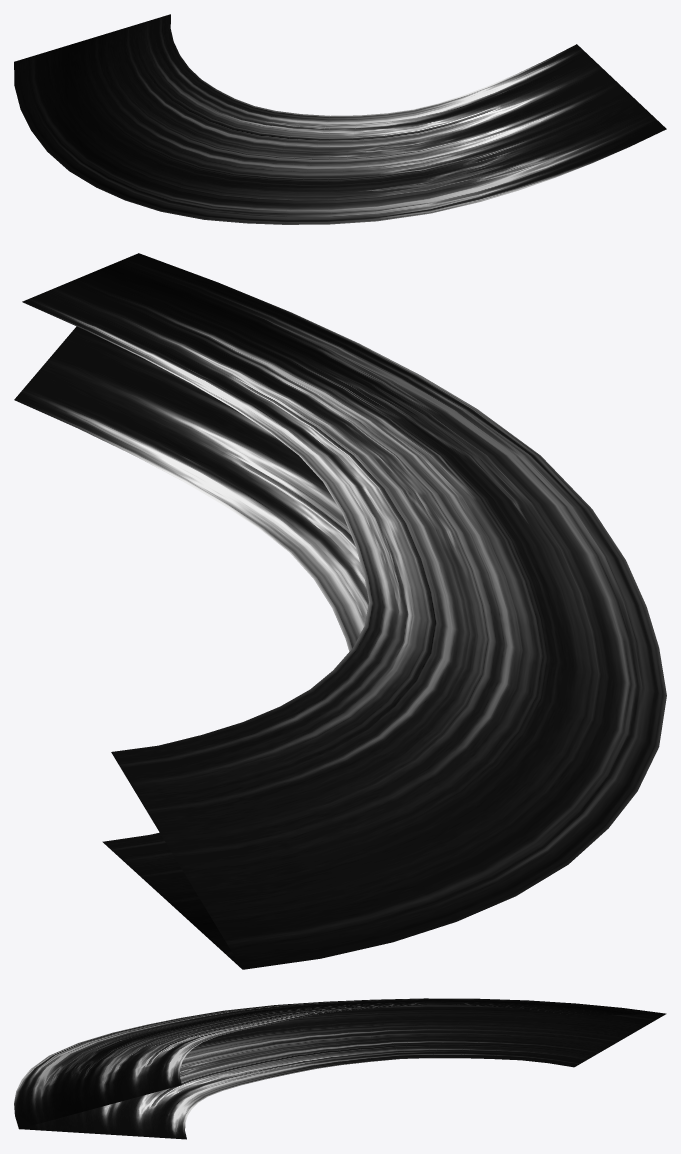
File: FX_cr_war_dg01.FBX
The picture shows the model from 3 angles, top to bottom: view 1: azimuth 30°, elevation 25°; view 2: azimuth 150°, elevation 25°; view 3: azimuth 270°, elevation 25°; orthographic projection. The views are drawn at different scales.
Visible parts, largest first — view 1: Plane002; view 2: Plane002; view 3: Plane002.
Boxes of the visible parts, <box> form: Plane002: <box>14,14,666,224</box>; Plane002: <box>14,253,666,969</box>; Plane002: <box>14,998,666,1139</box>.
Size of the model in its own units: 222 by 58.45 by 283.
Materials: 1 (1 with a texture image).
